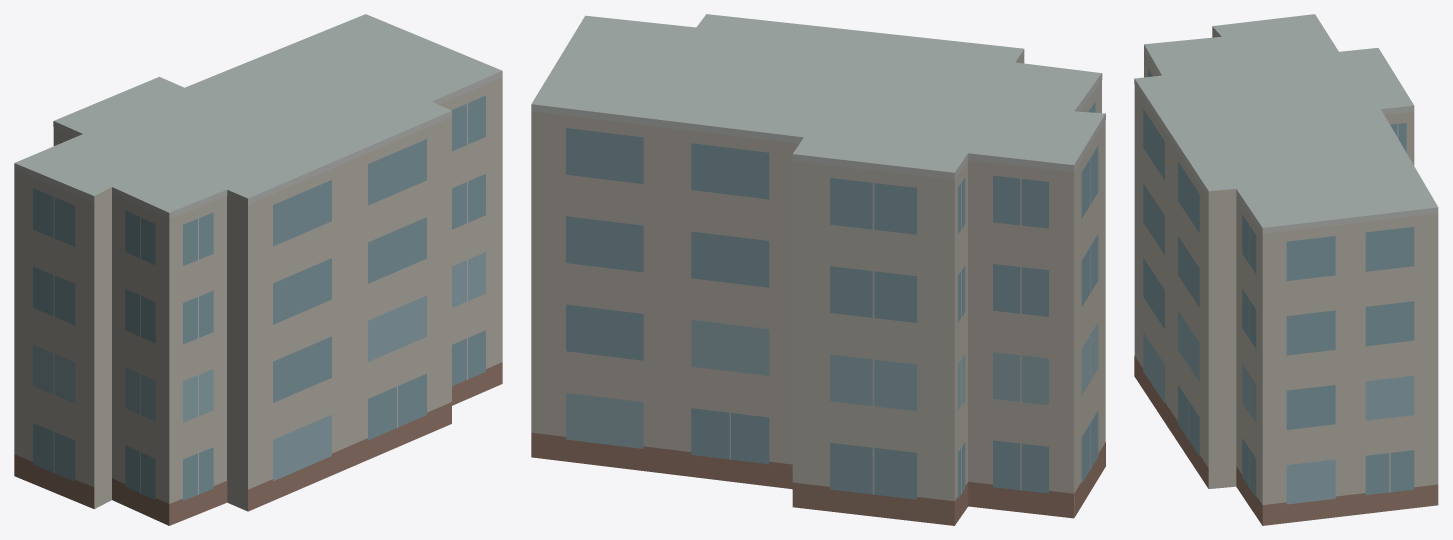
File: survey-upis-32675901.glb
The picture shows the model from 3 angles, left to right: view 1: azimuth 30°, elevation 25°; view 2: azimuth 150°, elevation 25°; view 3: azimuth 270°, elevation 25°; orthographic projection. The views are drawn at different scales.
Parts seen in each view (by area): view 1: survey-upis-32675901.tmp; view 2: survey-upis-32675901.tmp; view 3: survey-upis-32675901.tmp.
Boxes of the visible parts, x1,y1,x2,y2 form: survey-upis-32675901.tmp: [14, 14, 502, 525]; survey-upis-32675901.tmp: [531, 14, 1105, 525]; survey-upis-32675901.tmp: [1134, 14, 1438, 525].
Bounding box in the file's own units: 18.81 × 12.2 × 11.29.
